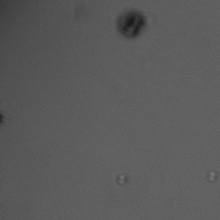Dead Cell: (116, 7, 147, 38)
